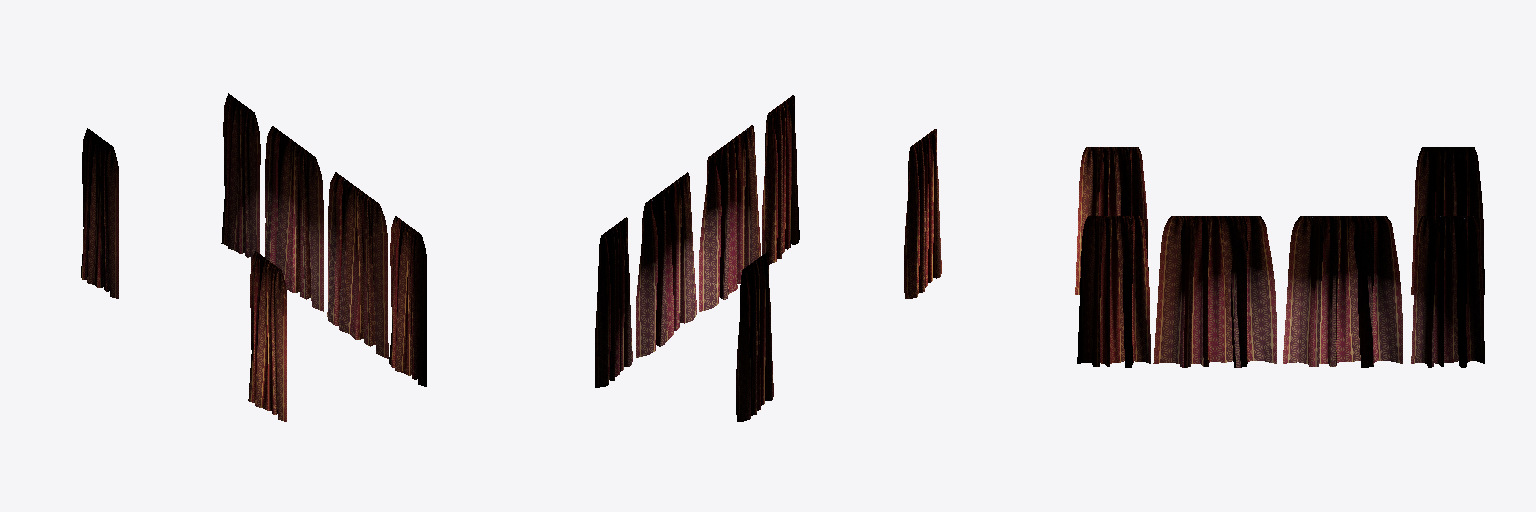
3 renders of one model, left to right at view 1: azimuth 30°, elevation 25°; view 2: azimuth 150°, elevation 25°; view 3: azimuth 270°, elevation 25°, orthographic.
Visible parts, largest first — view 1: curtains BakedQuadGeos1; view 2: curtains BakedQuadGeos1; view 3: curtains BakedQuadGeos1.
Part boxes in pixels (bbox=[...]): curtains BakedQuadGeos1: bbox=[81, 93, 426, 421]; curtains BakedQuadGeos1: bbox=[595, 95, 941, 421]; curtains BakedQuadGeos1: bbox=[1075, 147, 1484, 367].
Size of the model in its own units: 3.35 by 3.03 by 7.56.
1 materials, 1 textured.